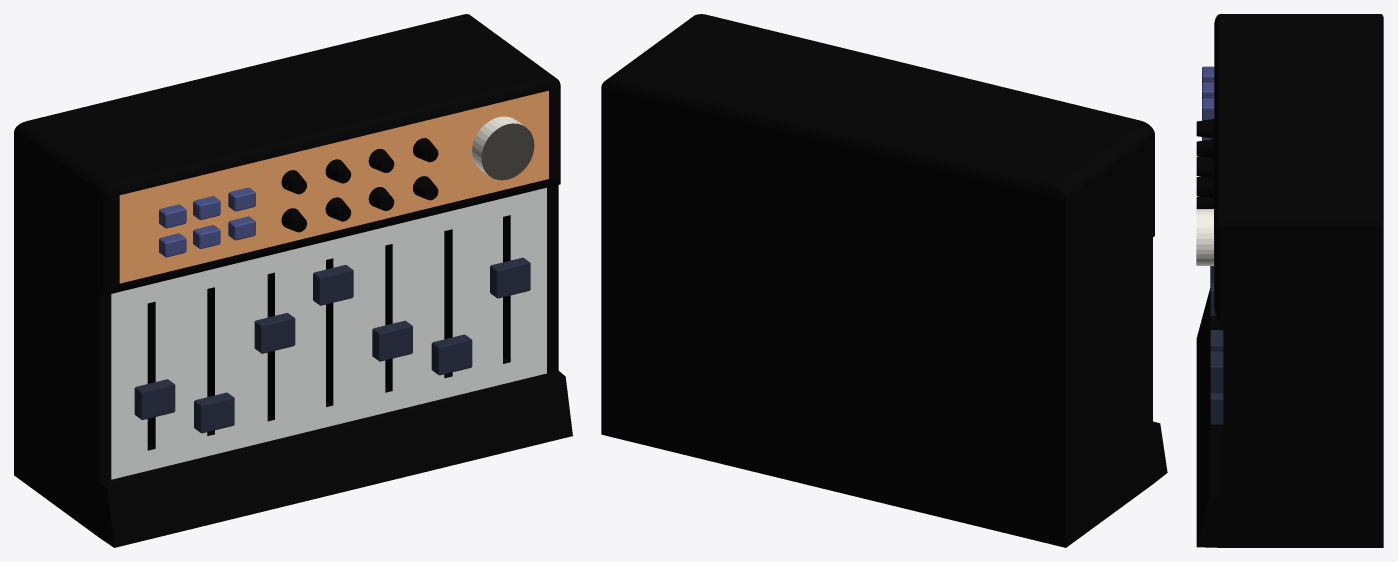
The model's file is mixer7.fbx.
3 views of the same model, side by side, from view 1: azimuth 30°, elevation 25°; view 2: azimuth 150°, elevation 25°; view 3: azimuth 270°, elevation 25° (orthographic). The views are drawn at different scales.
Parts seen in each view (by area): view 1: Cube, Cylinder, Cube.011, Cube.001, Cube.013, Cube.003, Cube.002, Cube.010, Cube.012; view 2: Cube; view 3: Cube, Cylinder, Cube.012, Cube.011, Cylinder.002, Cylinder.001, Cylinder.006, Cylinder.005, Cube.010, Cube.005.
Part boxes in pixels (x1=…): Cube: x1=14, y1=14, x2=572, y2=547; Cylinder: x1=472, y1=116, x2=534, y2=180; Cube.011: x1=431, y1=334, x2=472, y2=375; Cube.001: x1=254, y1=313, x2=295, y2=353; Cube.013: x1=134, y1=379, x2=175, y2=419; Cube.003: x1=194, y1=392, x2=234, y2=433; Cube.002: x1=313, y1=265, x2=353, y2=305; Cube.010: x1=372, y1=320, x2=412, y2=361; Cube.012: x1=490, y1=257, x2=530, y2=298; Cube: x1=601, y1=14, x2=1167, y2=547; Cube: x1=1196, y1=14, x2=1383, y2=547; Cylinder: x1=1196, y1=209, x2=1214, y2=265; Cube.012: x1=1210, y1=351, x2=1223, y2=392; Cube.011: x1=1210, y1=392, x2=1223, y2=424; Cylinder.002: x1=1196, y1=158, x2=1214, y2=178; Cylinder.001: x1=1196, y1=178, x2=1214, y2=198; Cylinder.006: x1=1196, y1=119, x2=1214, y2=138; Cylinder.005: x1=1196, y1=139, x2=1214, y2=158; Cube.010: x1=1210, y1=330, x2=1223, y2=351; Cube.005: x1=1202, y1=98, x2=1214, y2=120.
Bounding box in the file's own units: 193 × 143 × 73.45.
